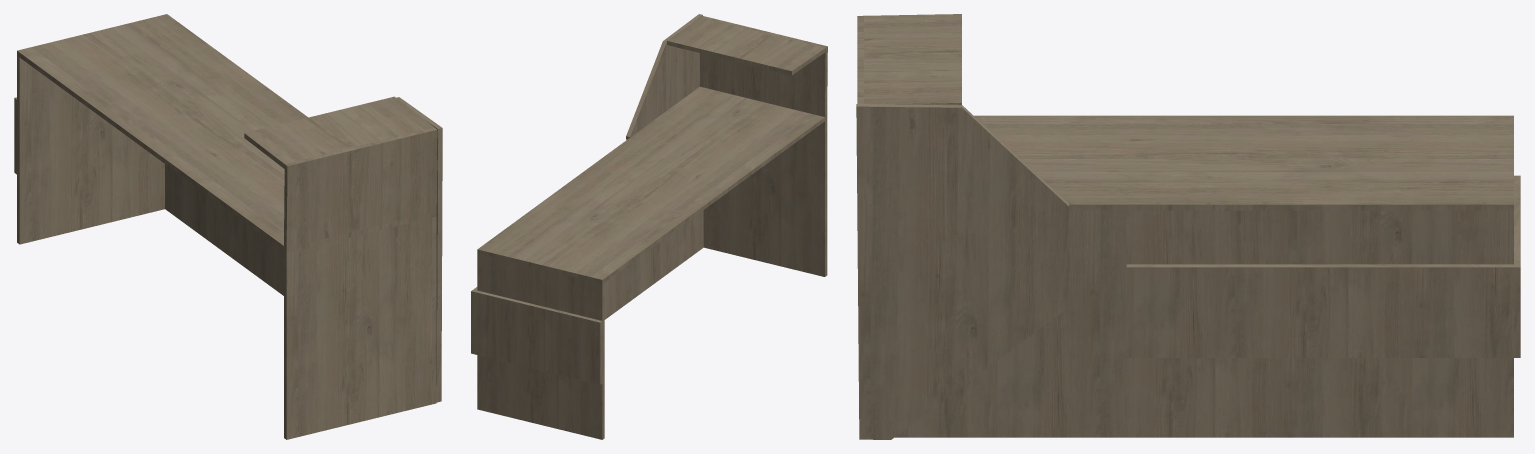
The model's file is res7.glb.
3 renders of one model, left to right at view 1: azimuth 30°, elevation 25°; view 2: azimuth 150°, elevation 25°; view 3: azimuth 270°, elevation 25°, orthographic. The views are drawn at different scales.
Visible parts, largest first — view 1: Box044, Box045, Box043, Box049, Box050, Box041, Box048; view 2: Box044, Box045, Box043, Box047, Box049, Box050, Box041, Box048; view 3: Box041, Box048, Box044, Box046, Box050, Box047.
Boxes of the visible parts, left/top/right/bottom form: Box044: left=17, top=14, right=436, bottom=252; Box045: left=284, top=217, right=431, bottom=439; Box043: left=17, top=56, right=164, bottom=244; Box049: left=284, top=127, right=437, bottom=247; Box050: left=244, top=96, right=434, bottom=168; Box041: left=165, top=164, right=436, bottom=404; Box048: left=396, top=97, right=442, bottom=402; Box044: left=477, top=86, right=827, bottom=283; Box045: left=703, top=120, right=827, bottom=276; Box043: left=481, top=254, right=604, bottom=439; Box047: left=471, top=289, right=602, bottom=384; Box049: left=699, top=16, right=827, bottom=116; Box050: left=667, top=17, right=825, bottom=75; Box041: left=477, top=210, right=703, bottom=410; Box048: left=626, top=14, right=702, bottom=139; Box041: left=895, top=210, right=1513, bottom=437; Box048: left=856, top=104, right=1068, bottom=439; Box044: left=974, top=115, right=1513, bottom=210; Box046: left=1126, top=264, right=1513, bottom=357; Box050: left=864, top=14, right=961, bottom=104; Box047: left=1514, top=175, right=1520, bottom=357.
Bounding box in the file's own units: 0.65 × 1.11 × 1.99.
1 material, 1 textured.
